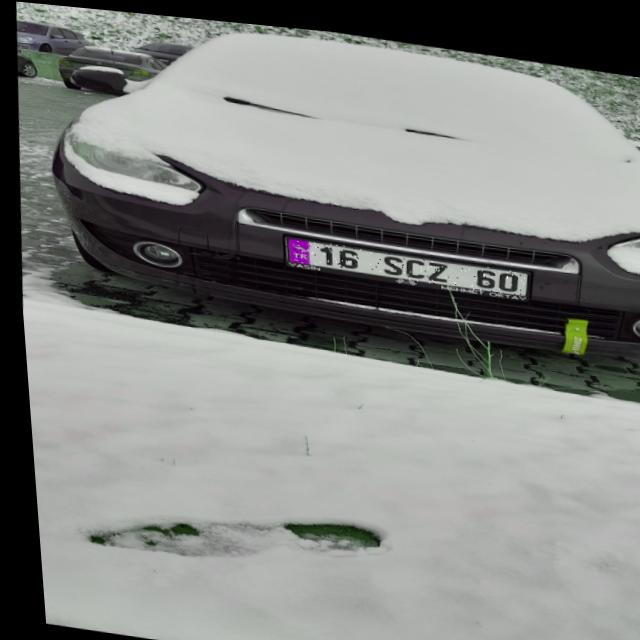license_plate: (281, 231, 526, 288)
